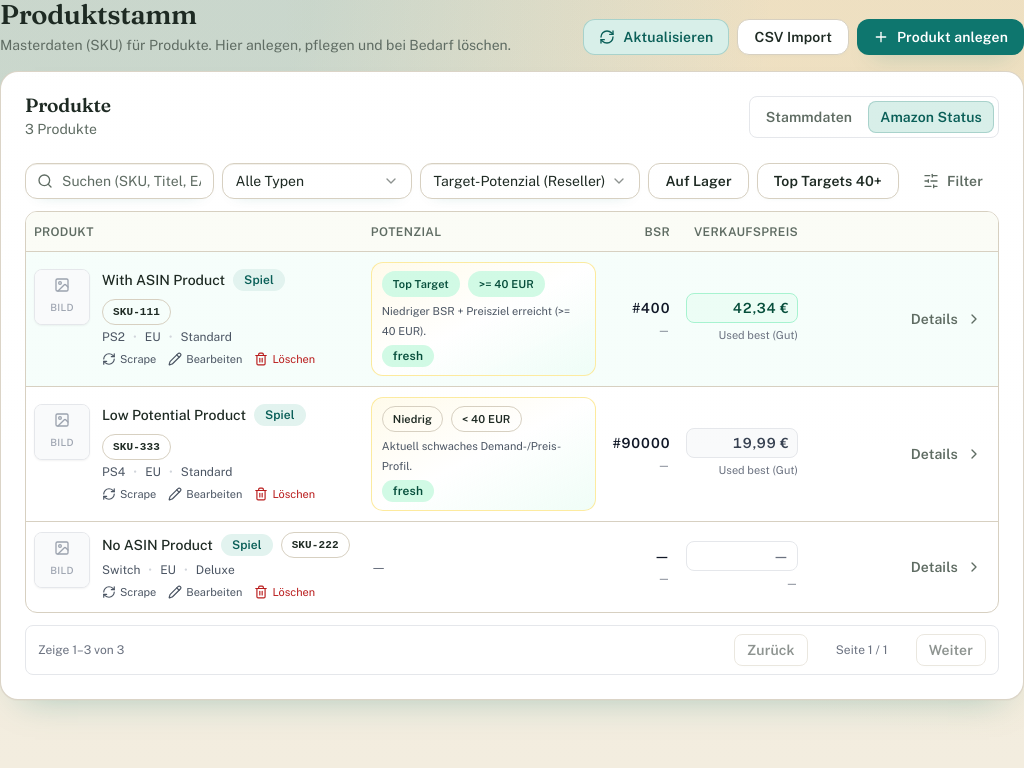
Scenario: filters Amazon view to top reseller targets
This screenshot has width=1024, height=768.
What coordinates should you click on to do the following:
click the button "Top Targets 40+"
I would click on:
 (828, 181)
Its box is [757,163,899,199].
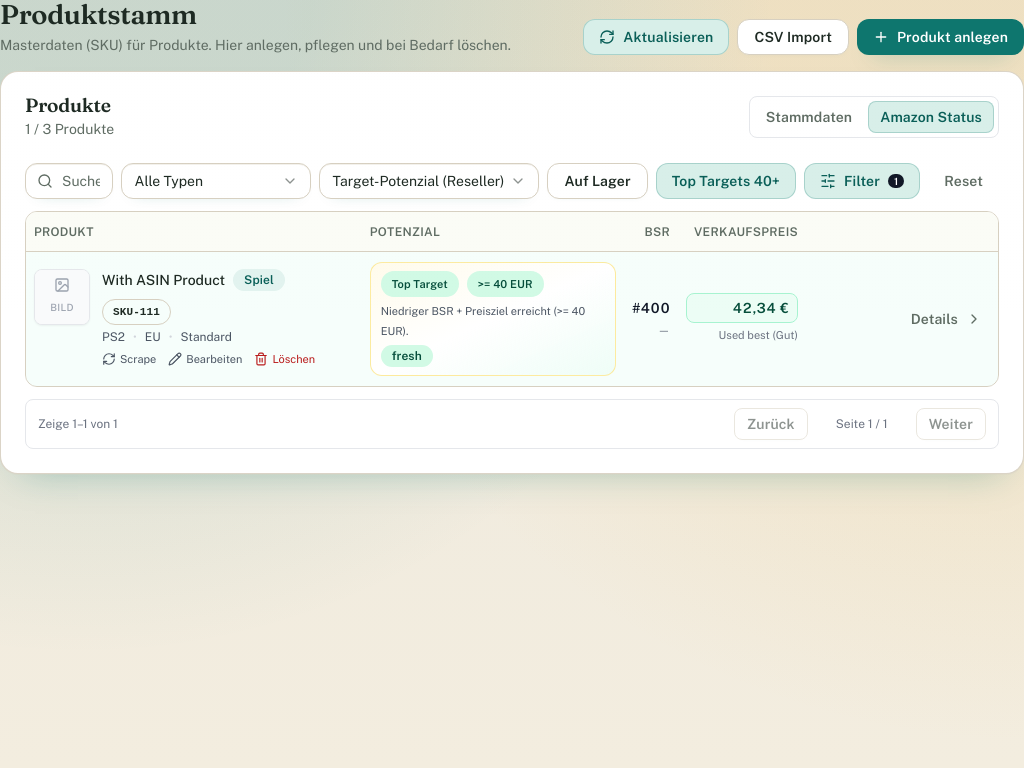
expect the text "Low Potential Product" is gone: met
expect the text "No ASIN Product" is gone: met
